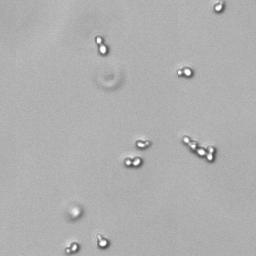budding: (93, 34, 111, 57), (94, 230, 112, 251), (123, 154, 145, 169), (175, 64, 196, 79), (62, 241, 81, 255), (210, 1, 229, 15), (133, 138, 152, 150)
cluster: (179, 132, 219, 164)
